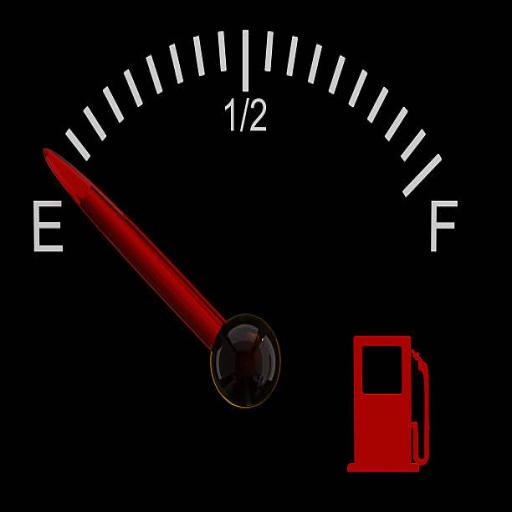empty: (28, 191, 66, 264)
fuel_icon: (346, 324, 437, 483)
full: (422, 195, 466, 268)
guage_area: (4, 6, 504, 504)
needle_center: (196, 305, 288, 430)
needle_tip: (29, 140, 73, 190)
